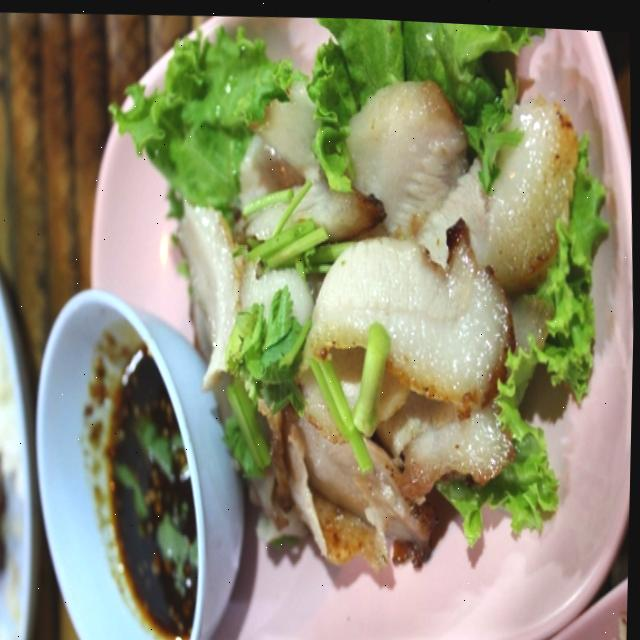猪肉菜式: (33, 2, 640, 640)
